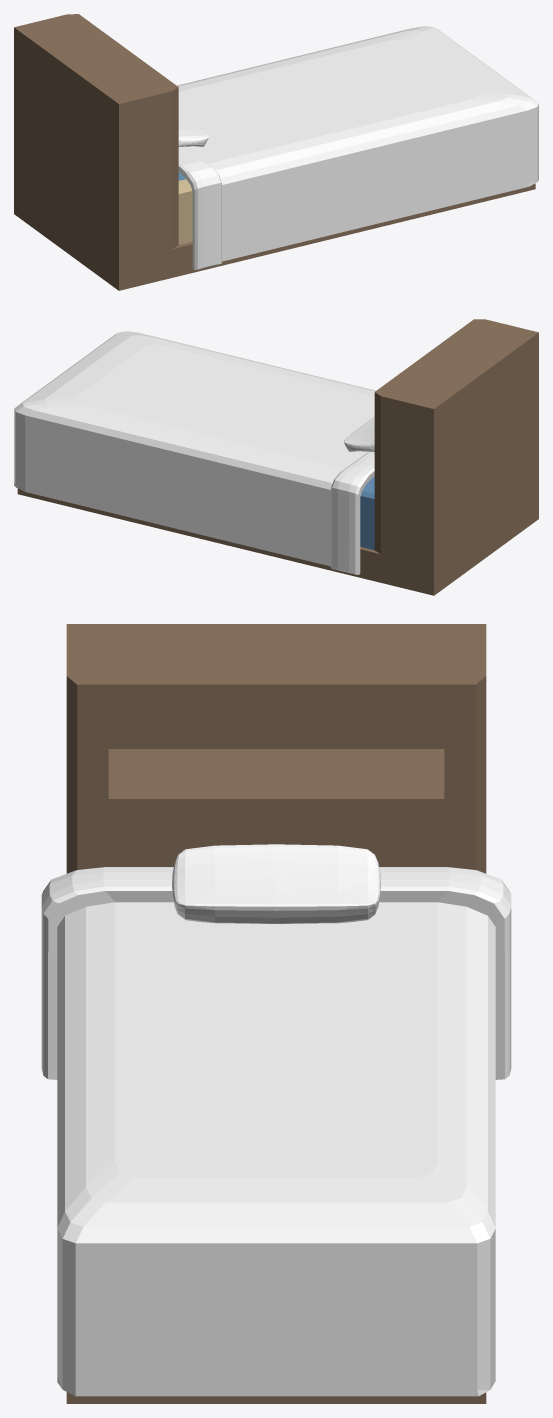
File: Bed 1.fbx
The picture shows the model from 3 angles, top to bottom: view 1: azimuth 30°, elevation 25°; view 2: azimuth 150°, elevation 25°; view 3: azimuth 270°, elevation 25°; orthographic projection. The views are drawn at different scales.
Visible parts, largest first — view 1: Blanket, Frame, Bed, Pillow; view 2: Blanket, Frame, Bed, Pillow; view 3: Blanket, Frame, Pillow.
Part boxes in pixels (x1,y1,x2,y2): Blanket: (177,26,538,269); Frame: (14,14,535,290); Bed: (178,172,192,244); Pillow: (178,112,208,146); Blanket: (14,331,375,574); Frame: (17,319,538,595); Bed: (360,476,374,549); Pillow: (344,417,374,451); Blanket: (41,867,511,1396); Frame: (66,624,486,1403); Pillow: (172,844,380,923).
Bounding box in the file's own units: 464 × 196 × 224.
